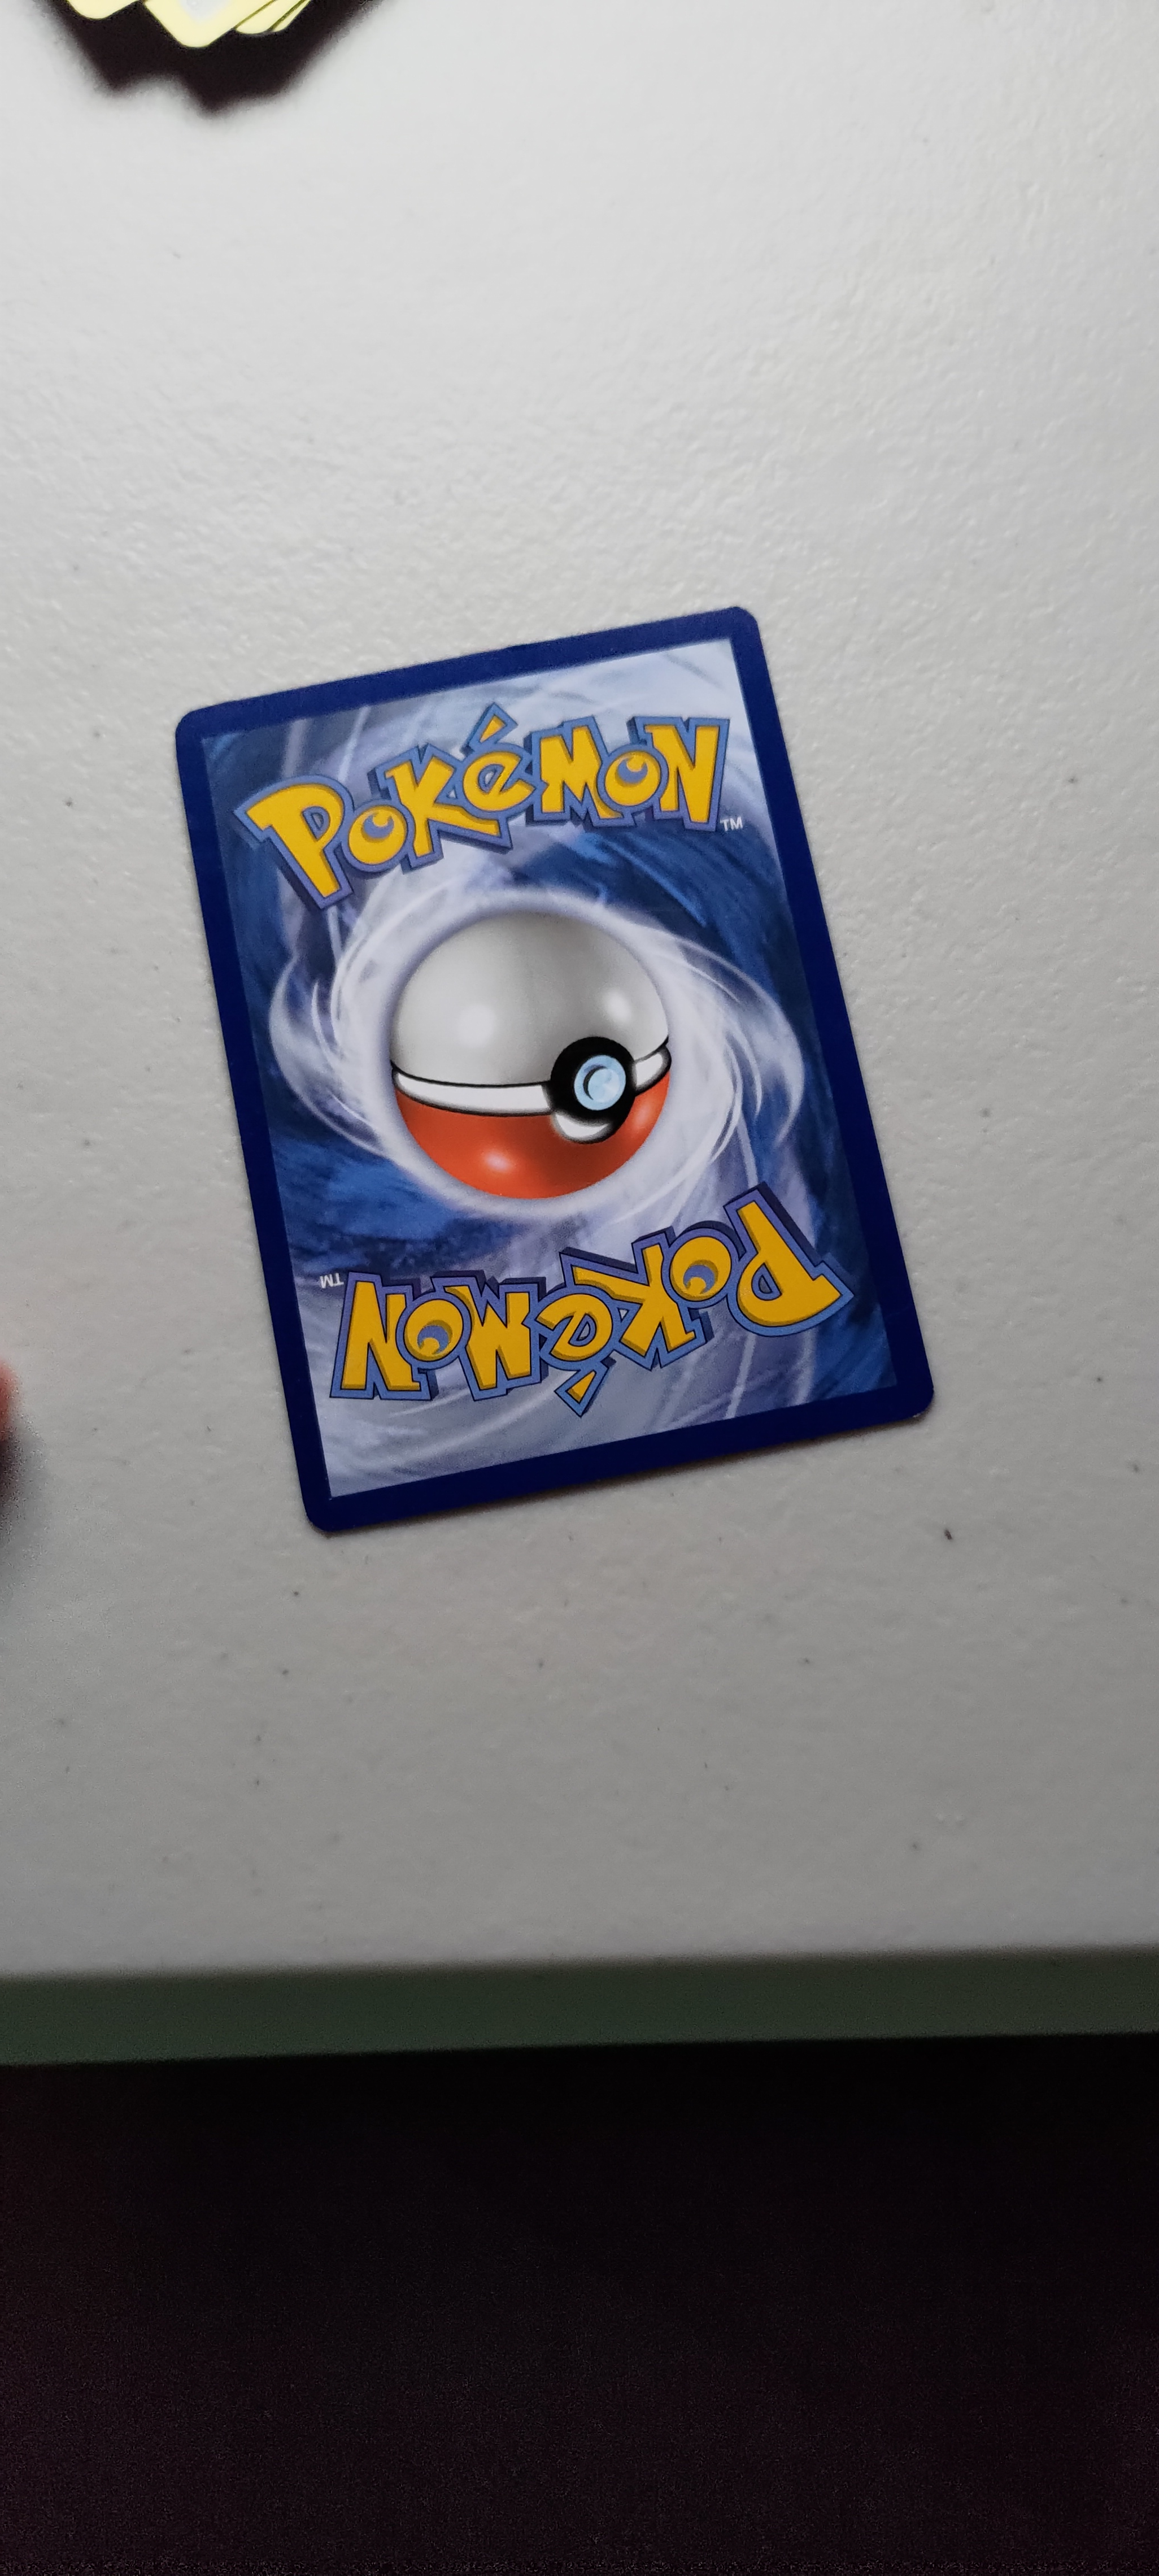pokemon_card: (159, 687, 821, 1562)
